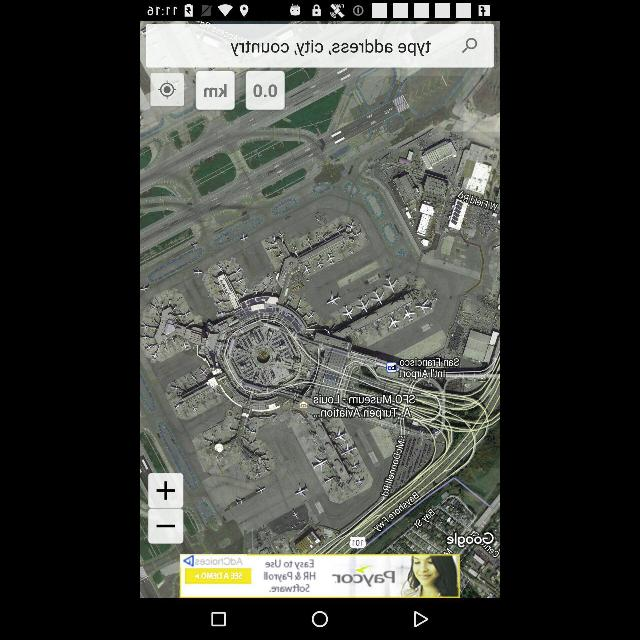icon: (158, 81, 176, 99), (312, 610, 328, 628), (414, 610, 428, 628), (462, 38, 478, 52), (212, 612, 226, 626)
input: (147, 26, 493, 66)
map: (140, 69, 500, 596)
panel: (140, 598, 500, 640)
text: (231, 39, 431, 55)
uppertaskbar: (140, 0, 500, 20)
